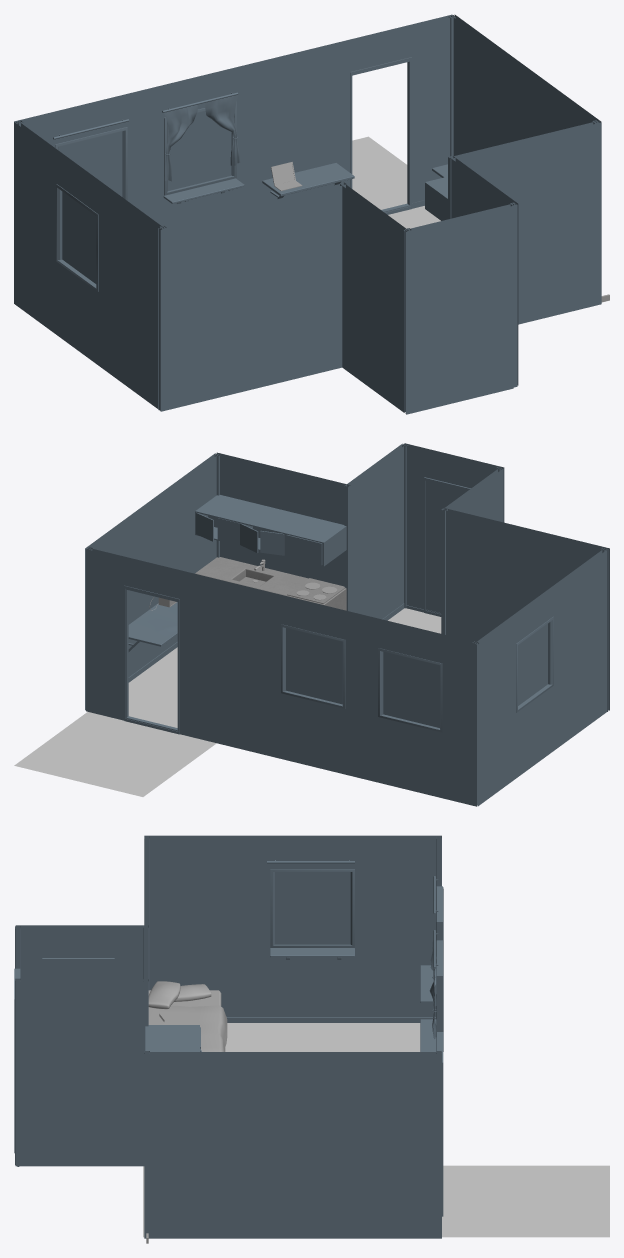
The model's file is SM_room.fbx.
The picture shows the model from 3 angles, top to bottom: view 1: azimuth 30°, elevation 25°; view 2: azimuth 150°, elevation 25°; view 3: azimuth 270°, elevation 25°; orthographic projection. The views are drawn at different scales.
Visible parts, largest first — view 1: polySurface6, pCube89, pCube91, pCube95, polySurface5, pCube94, pCube92, pCube1, pPlane3, pCube93, pPlane5, pPlane4 (+9 smaller); view 2: pCube89, pCube91, pCube1, polySurface6, pCube92, pCube93, polySurface5, polySurface11, pCube95, pPlane3, pPlane4, pCube35 (+12 smaller); view 3: pCube92, pCube91, pCube93, pCube1, pPlane5, pCube94, pCylinder11, pCube127, pPlane10, polySurface11, pCylinder9, pCube143 (+4 smaller).
Boxes of the visible parts, box(x1,y1,x2,y2) form: polySurface6: box(158, 183, 345, 411); pCube89: box(14, 14, 454, 226); pCube91: box(14, 121, 163, 410); pCube95: box(404, 203, 517, 413); polySurface5: box(451, 121, 601, 324); pCube94: box(340, 183, 408, 412); pCube92: box(451, 14, 601, 155); pCube1: box(352, 136, 440, 228); pPlane3: box(167, 111, 231, 190); pCube93: box(450, 158, 518, 385); pPlane5: box(62, 191, 96, 283); pPlane4: box(58, 131, 122, 196); pCube89: box(86, 548, 478, 806); pCube91: box(475, 548, 608, 806); pCube1: box(14, 608, 441, 796); polySurface6: box(443, 508, 609, 711); pCube92: box(85, 453, 218, 710); pCube93: box(347, 443, 406, 619); polySurface5: box(214, 452, 348, 586); polySurface11: box(195, 495, 346, 566); pCube95: box(402, 443, 504, 609); pPlane3: box(286, 628, 342, 704); pPlane4: box(383, 652, 439, 727); pCube35: box(195, 557, 346, 610); pCube92: box(144, 1052, 441, 1238); pCube91: box(144, 835, 441, 1016); pCube93: box(15, 979, 146, 1166); pCube1: box(143, 1023, 609, 1237); pPlane5: box(275, 872, 350, 944); pCube94: box(15, 925, 146, 979); pCylinder11: box(267, 860, 354, 959); pCube127: box(15, 836, 441, 1165); pPlane10: box(159, 1005, 227, 1051); polySurface11: box(145, 1025, 201, 1051); pCylinder9: box(420, 930, 443, 1051); pCube143: box(17, 1017, 435, 1166).
Size of the model in its own units: 623 by 243 by 702.
